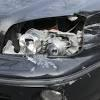Headlight-Damage: (0, 14, 91, 63)
